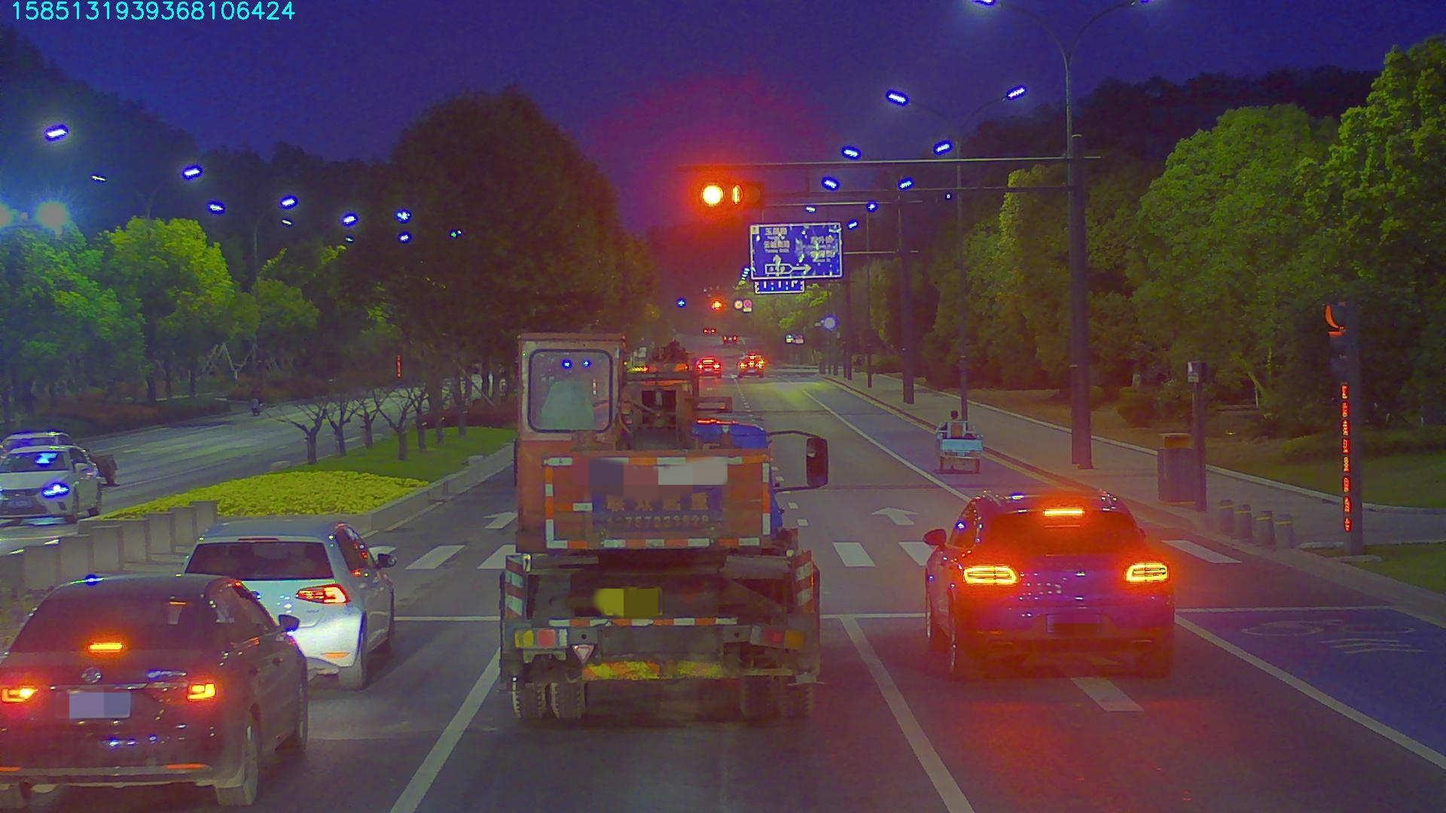red: (698, 177, 743, 213)
